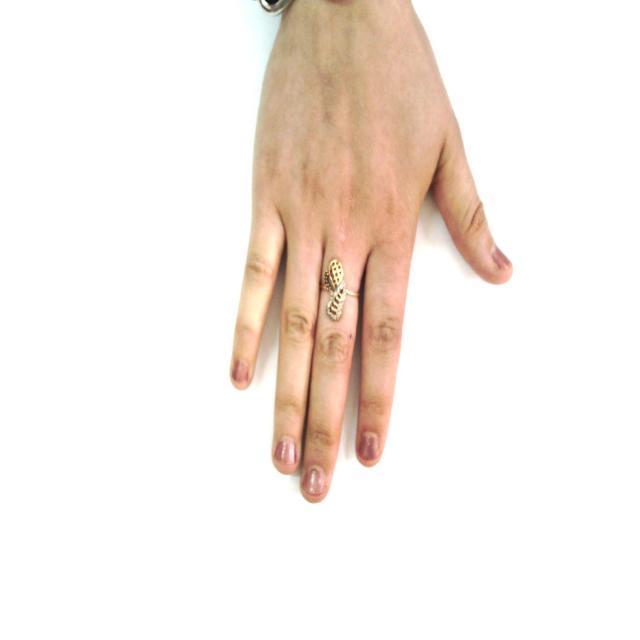Fingernail: (303, 464, 325, 496), (360, 431, 380, 462), (275, 439, 296, 468), (492, 246, 512, 270), (233, 362, 247, 384)
